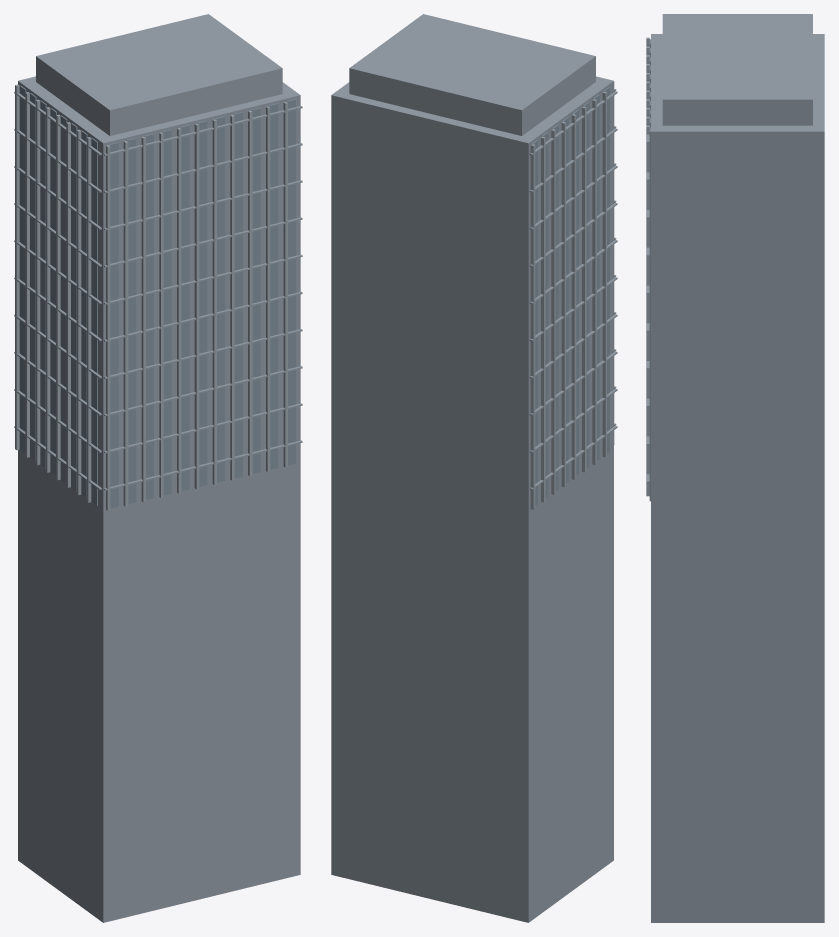
The picture shows the model from 3 angles, left to right: view 1: azimuth 30°, elevation 25°; view 2: azimuth 150°, elevation 25°; view 3: azimuth 270°, elevation 25°; orthographic projection.
Visible parts, largest first — view 1: Photo estimated tower body / surface 5, Photo estimated tower body / surface 2, Tower recessed vertical bay / surface 5 (×11), Tower return recessed bay / surface 2 (×8), Tower vertical pier / surface 5 (×11), Stepped tower crown / surface 3, Tower return vertical pier / surface 5 (×8), Tower vertical pier / surface 2 (×11), Tower return vertical pier / surface 2 (×8), Stepped tower crown / surface 5, Photo estimated tower body / surface 3, Stepped tower crown / surface 2; view 2: Photo estimated tower body / surface 6, Photo estimated tower body / surface 2, Stepped tower crown / surface 3, Tower return vertical pier / surface 6 (×8), Tower return recessed bay / surface 2 (×8), Tower return vertical pier / surface 2 (×8), Stepped tower crown / surface 6, Photo estimated tower body / surface 3, Stepped tower crown / surface 2; view 3: Photo estimated tower body / surface 1, Stepped tower crown / surface 3, Stepped tower crown / surface 1, Photo estimated tower body / surface 3, Tower vertical pier / surface 1, Tower recessed vertical bay / surface 1.
Part boxes in pixels (<box>): Photo estimated tower body / surface 5: <box>103,95,300,922</box>; Photo estimated tower body / surface 2: <box>18,81,103,922</box>; Tower recessed vertical bay / surface 5 (×11): <box>109,99,295,508</box>; Tower return recessed bay / surface 2 (×8): <box>19,86,96,505</box>; Tower vertical pier / surface 5 (×11): <box>107,103,287,510</box>; Stepped tower crown / surface 3: <box>36,14,282,110</box>; Tower return vertical pier / surface 5 (×8): <box>16,85,91,502</box>; Tower vertical pier / surface 2 (×11): <box>106,103,285,510</box>; Tower return vertical pier / surface 2 (×8): <box>15,85,88,502</box>; Stepped tower crown / surface 5: <box>110,68,282,135</box>; Photo estimated tower body / surface 3: <box>18,76,300,143</box>; Stepped tower crown / surface 2: <box>36,56,109,135</box>; Photo estimated tower body / surface 6: <box>331,95,528,922</box>; Photo estimated tower body / surface 2: <box>528,81,613,922</box>; Stepped tower crown / surface 3: <box>349,14,595,110</box>; Tower return vertical pier / surface 6 (×8): <box>530,93,605,509</box>; Tower return recessed bay / surface 2 (×8): <box>533,87,609,505</box>; Tower return vertical pier / surface 2 (×8): <box>533,92,606,509</box>; Stepped tower crown / surface 6: <box>349,68,521,135</box>; Photo estimated tower body / surface 3: <box>331,76,613,143</box>; Stepped tower crown / surface 2: <box>522,56,595,135</box>; Photo estimated tower body / surface 1: <box>651,131,824,922</box>; Stepped tower crown / surface 3: <box>662,14,812,99</box>; Stepped tower crown / surface 1: <box>662,99,812,125</box>; Photo estimated tower body / surface 3: <box>651,34,824,131</box>; Tower vertical pier / surface 1: <box>646,127,649,496</box>; Tower recessed vertical bay / surface 1: <box>649,132,650,501</box>.
Bounding box in the file's own units: 4.08 × 15.6 × 3.08.
